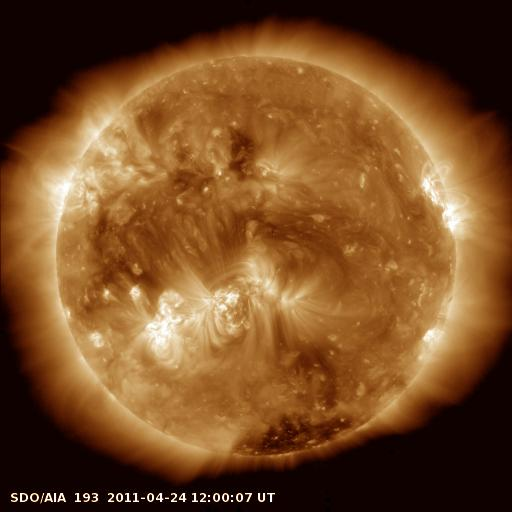coronal_hole: (233, 414, 362, 456), (221, 125, 264, 178)
